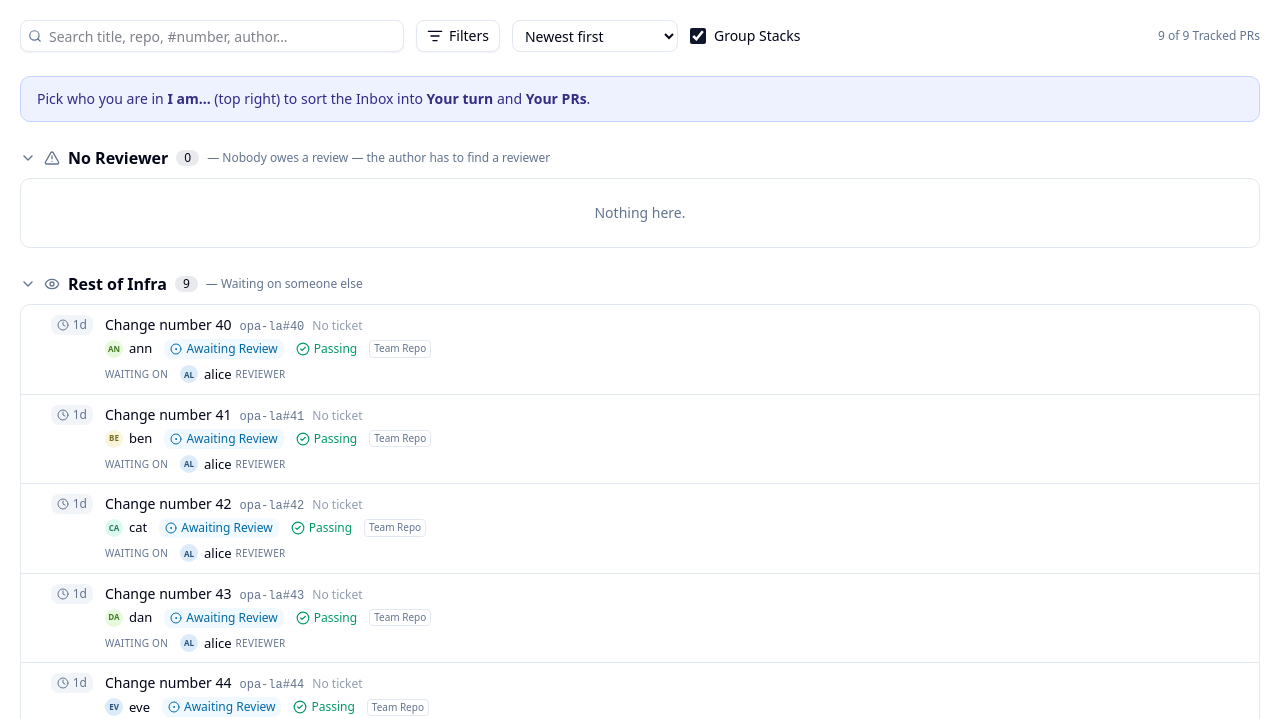
Test case: the Inbox below 1280px › its filters › search a long facet in the panel too, matching people by login
Click the button "Filters" at (458, 36), box top-left (416, 20), bottom-right (500, 52)
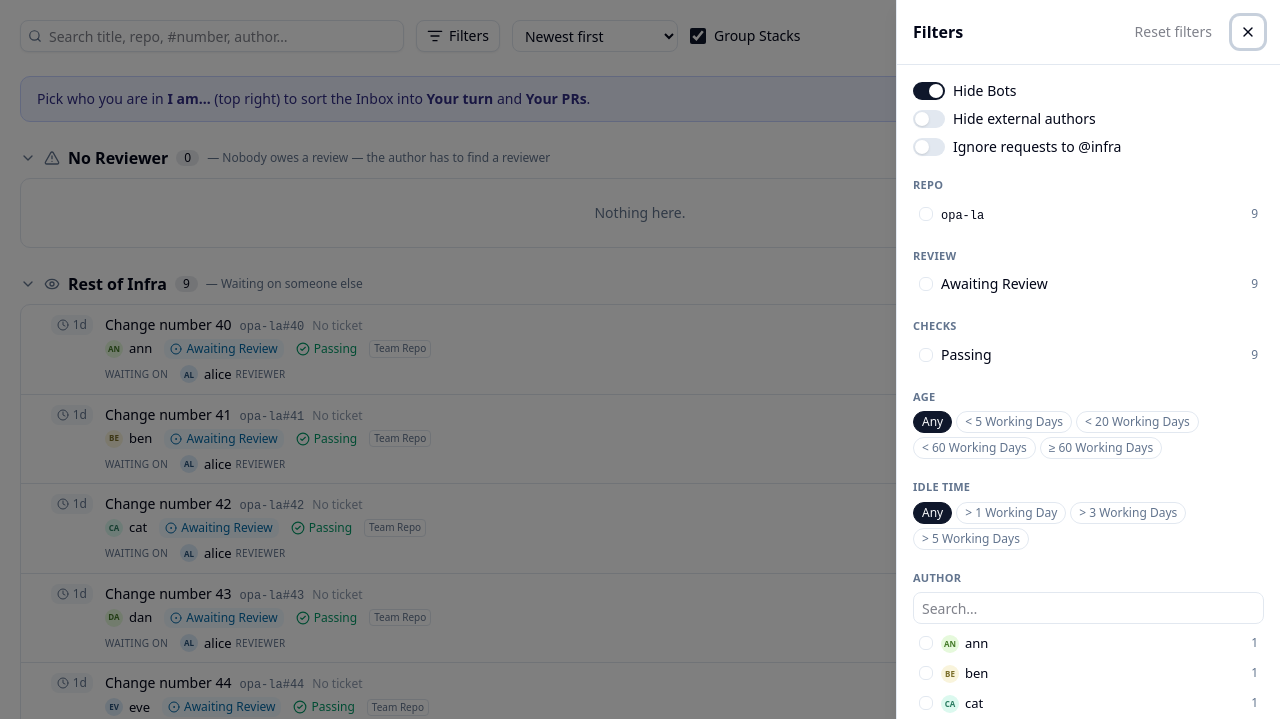
Type "V" into the search field named "Search Author" at (1088, 608), box top-left (913, 592), bottom-right (1264, 624)
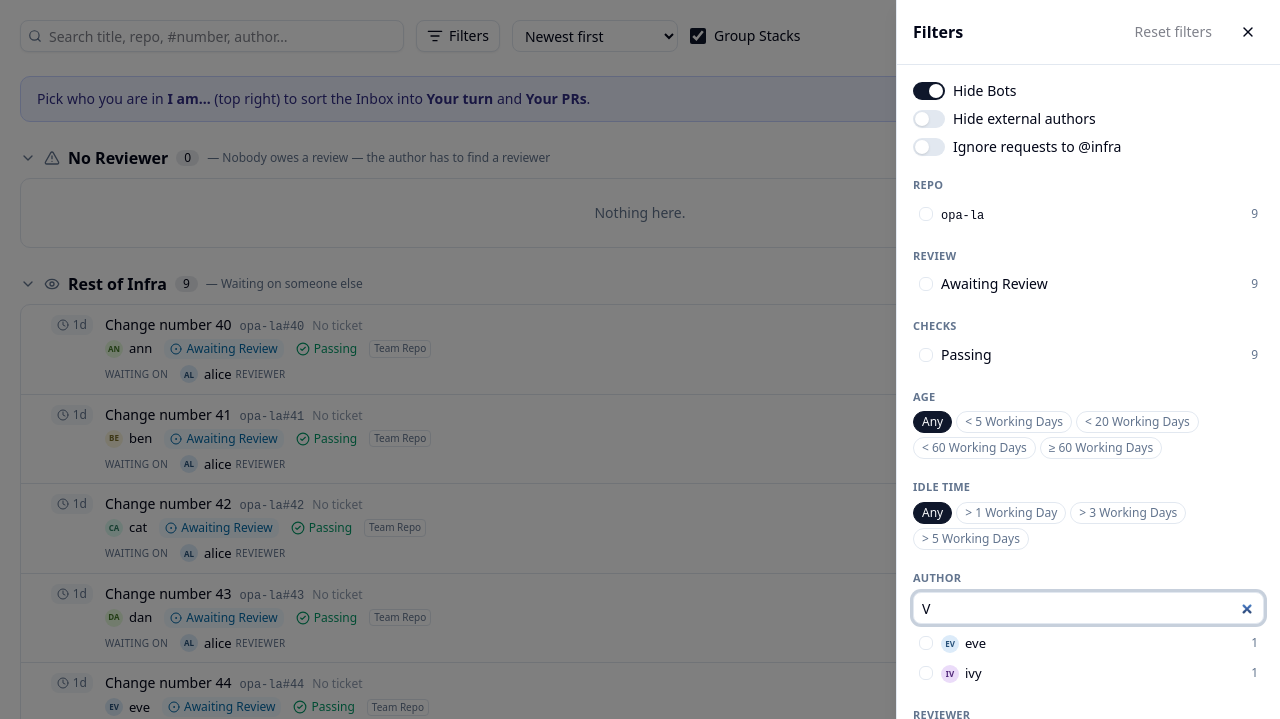
Expected: the checkboxes read "eve1", "ivy1", in this order, top-left (913, 628), bottom-right (1264, 657); top-left (913, 658), bottom-right (1264, 687)
